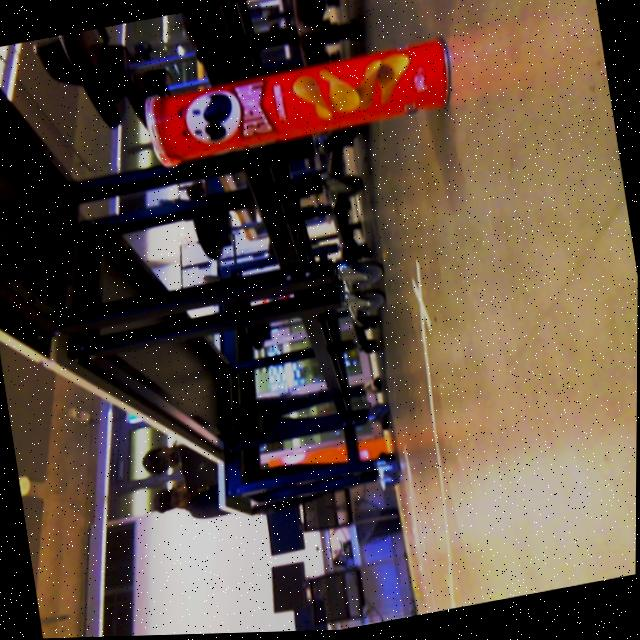redpringles: (124, 22, 458, 189)
